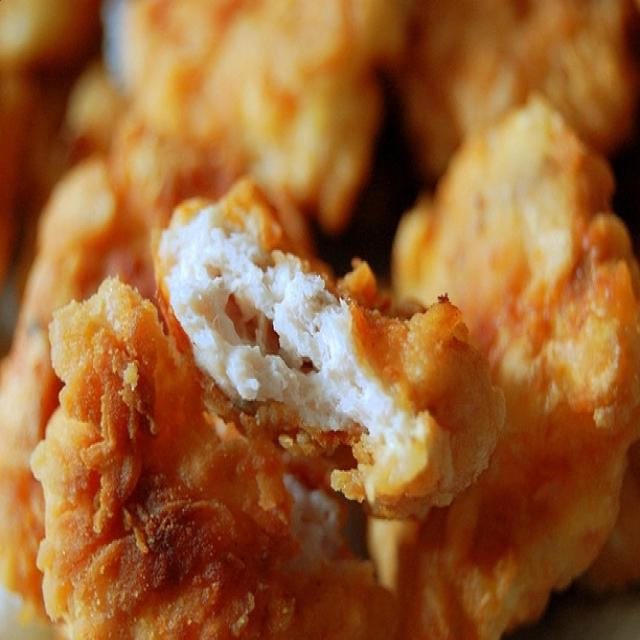鸡肉料理 含炸鸡: (34, 17, 597, 626)
